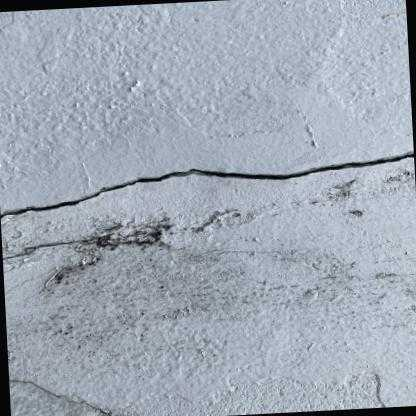crack: (0, 151, 414, 217)
